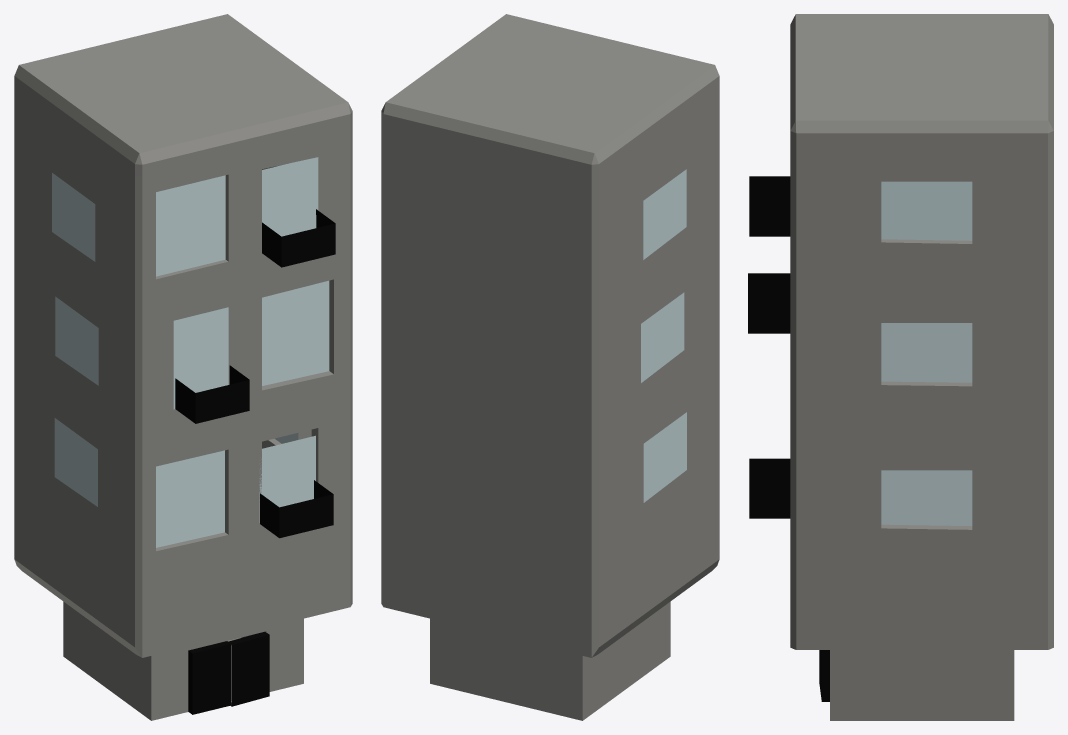
File: appartementgrijsreal.fbx
The picture shows the model from 3 angles, left to right: view 1: azimuth 30°, elevation 25°; view 2: azimuth 150°, elevation 25°; view 3: azimuth 270°, elevation 25°; orthographic projection. The views are drawn at different scales.
Parts seen in each view (by area): view 1: Cube, Cube.005, Cube.004, Cube.006, Cube.014, Cube.013, Cube.012, Cube.007, Cube.017, Cube.015, Cube.016, Cube.002 (+3 smaller); view 2: Cube, Cube.015, Cube.016, Cube.017; view 3: Cube, Cube.010, Cube.009, Cube.011, Cube.002, Cube.001, Cube.003, Cube.008.
Part boxes in pixels (x1,y1,x2,y2): Cube: [14, 14, 352, 720]; Cube.005: [262, 280, 329, 385]; Cube.004: [156, 175, 225, 276]; Cube.006: [156, 450, 224, 547]; Cube.014: [173, 307, 228, 409]; Cube.013: [262, 157, 318, 236]; Cube.012: [259, 435, 315, 522]; Cube.007: [188, 641, 231, 714]; Cube.017: [54, 418, 97, 506]; Cube.015: [52, 173, 95, 261]; Cube.016: [55, 296, 98, 385]; Cube.002: [175, 365, 249, 423]; Cube: [381, 14, 719, 720]; Cube.015: [643, 169, 686, 259]; Cube.016: [641, 292, 684, 382]; Cube.017: [643, 412, 686, 502]; Cube: [790, 14, 1053, 720]; Cube.010: [881, 323, 972, 382]; Cube.009: [881, 181, 972, 240]; Cube.011: [881, 470, 972, 526]; Cube.002: [748, 273, 790, 333]; Cube.001: [749, 176, 790, 236]; Cube.003: [749, 458, 790, 518]; Cube.008: [819, 650, 829, 701].
Size of the model in its own units: 541 by 1369 by 617.
